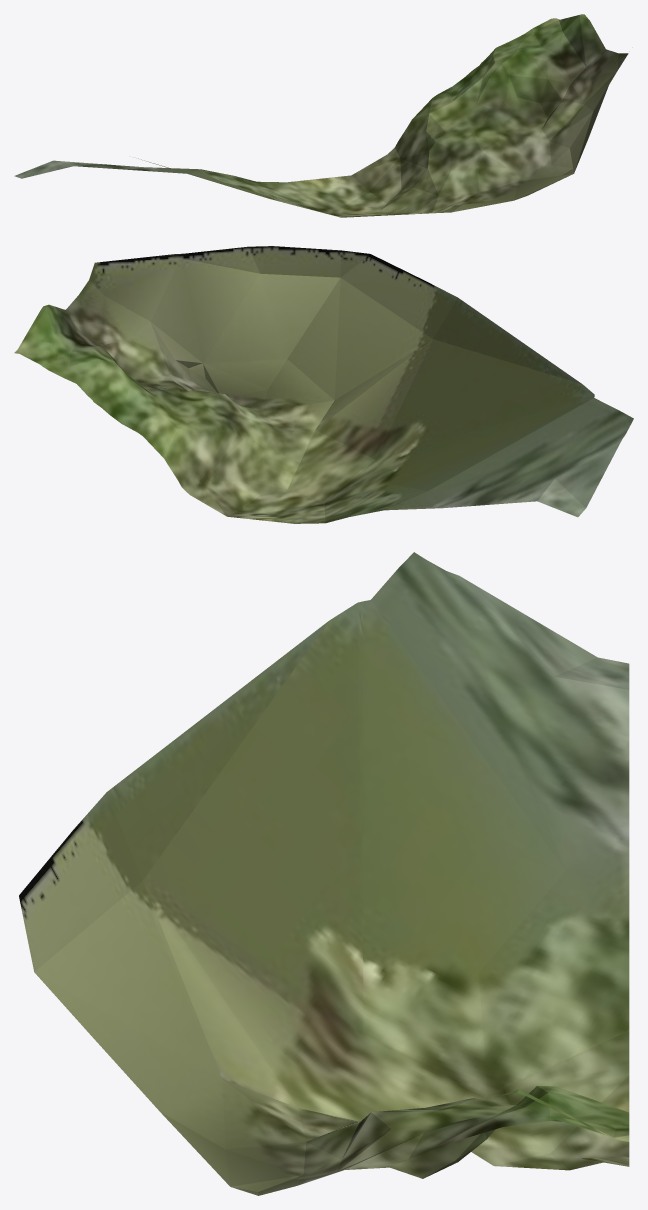
3 views of the same model, one above another, from view 1: azimuth 30°, elevation 25°; view 2: azimuth 150°, elevation 25°; view 3: azimuth 270°, elevation 25° (orthographic). The views are drawn at different scales.
Size of the model in its own units: 5.9 by 1.5 by 2.87.
Materials: 1 (1 with a texture image).
